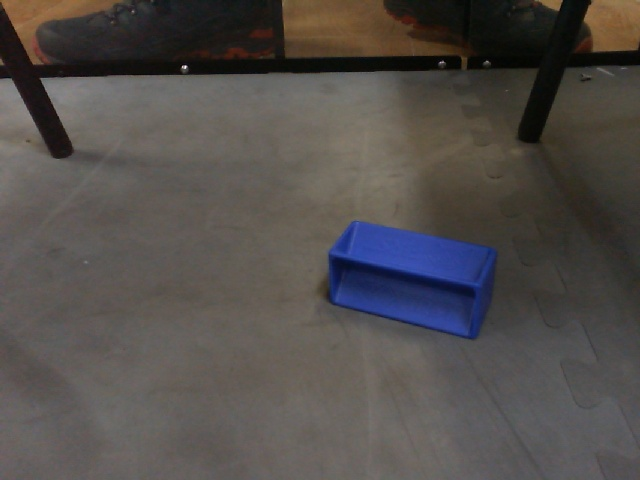BlueSample: (323, 216, 502, 343)
